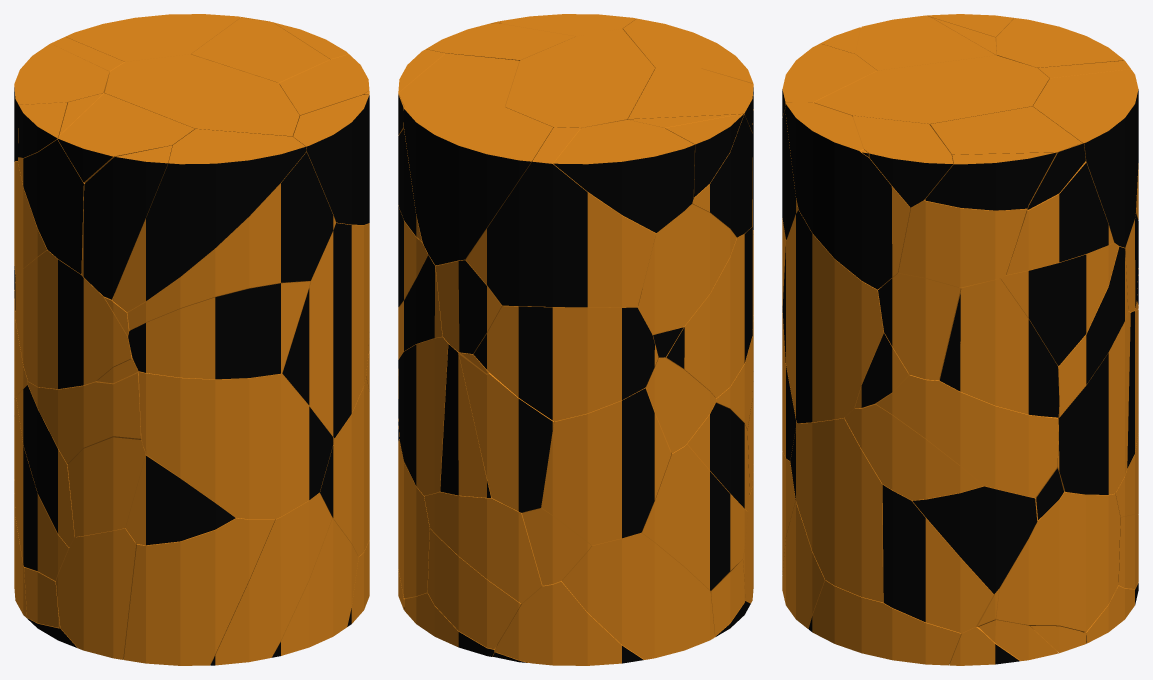
File: setup broken barrel.fbx
3 renders of one model, left to right at view 1: azimuth 30°, elevation 25°; view 2: azimuth 150°, elevation 25°; view 3: azimuth 270°, elevation 25°, orthographic.
Parts seen in each view (by area): view 1: Cylinder_cell.066, Cylinder_cell.058, Cylinder_cell.009, Cylinder_cell.080, Cylinder_cell.028, Cylinder_cell.004, Cylinder_cell.060, Cylinder_cell.035, Cylinder_cell.012, Cylinder_cell.006, Cylinder_cell.073, Cylinder_cell.034 (+21 smaller); view 2: Cylinder_cell, Cylinder_cell.065, Cylinder_cell.039, Cylinder_cell.067, Cylinder_cell.071, Cylinder_cell.038, Cylinder_cell.035, Cylinder_cell.044, Cylinder_cell.052, Cylinder_cell.007, Cylinder_cell.060, Cylinder_cell.017 (+25 smaller); view 3: Cylinder_cell.004, Cylinder_cell.034, Cylinder_cell.082, Cylinder_cell.027, Cylinder_cell.001, Cylinder_cell.025, Cylinder_cell.035, Cylinder_cell.039, Cylinder_cell.053, Cylinder_cell.063, Cylinder_cell.051, Cylinder_cell.042 (+31 smaller).
Boxes of the visible parts, <box> form: Cylinder_cell.066: <box>138,371,334,519</box>; Cylinder_cell.058: <box>112,129,306,311</box>; Cylinder_cell.009: <box>123,517,274,665</box>; Cylinder_cell.080: <box>127,152,335,330</box>; Cylinder_cell.028: <box>128,281,310,379</box>; Cylinder_cell.004: <box>282,222,369,438</box>; Cylinder_cell.060: <box>14,250,134,388</box>; Cylinder_cell.035: <box>104,54,299,136</box>; Cylinder_cell.012: <box>210,493,332,665</box>; Cylinder_cell.006: <box>56,528,136,659</box>; Cylinder_cell.073: <box>81,145,172,299</box>; Cylinder_cell.034: <box>292,94,369,224</box>; Cylinder_cell: <box>465,127,656,307</box>; Cylinder_cell.065: <box>473,305,658,421</box>; Cylinder_cell.039: <box>403,107,552,265</box>; Cylinder_cell.067: <box>541,387,671,545</box>; Cylinder_cell.071: <box>561,533,714,659</box>; Cylinder_cell.038: <box>553,119,694,232</box>; Cylinder_cell.035: <box>505,29,654,130</box>; Cylinder_cell.044: <box>641,444,747,591</box>; Cylinder_cell.052: <box>458,352,554,512</box>; Cylinder_cell.007: <box>638,204,736,334</box>; Cylinder_cell.060: <box>638,227,753,398</box>; Cylinder_cell.017: <box>424,491,542,603</box>; Cylinder_cell.004: <box>782,210,884,423</box>; Cylinder_cell.034: <box>785,102,910,289</box>; Cylinder_cell.082: <box>996,491,1120,632</box>; Cylinder_cell.027: <box>790,417,883,602</box>; Cylinder_cell.001: <box>875,373,1058,497</box>; Cylinder_cell.025: <box>939,278,1059,417</box>; Cylinder_cell.035: <box>814,55,1049,124</box>; Cylinder_cell.039: <box>1033,69,1138,247</box>; Cylinder_cell.053: <box>882,484,993,633</box>; Cylinder_cell.063: <box>1057,311,1130,494</box>; Cylinder_cell.051: <box>896,200,1026,287</box>; Cylinder_cell.042: <box>912,486,1037,593</box>.
Size of the model in its own units: 150 by 233 by 150.
